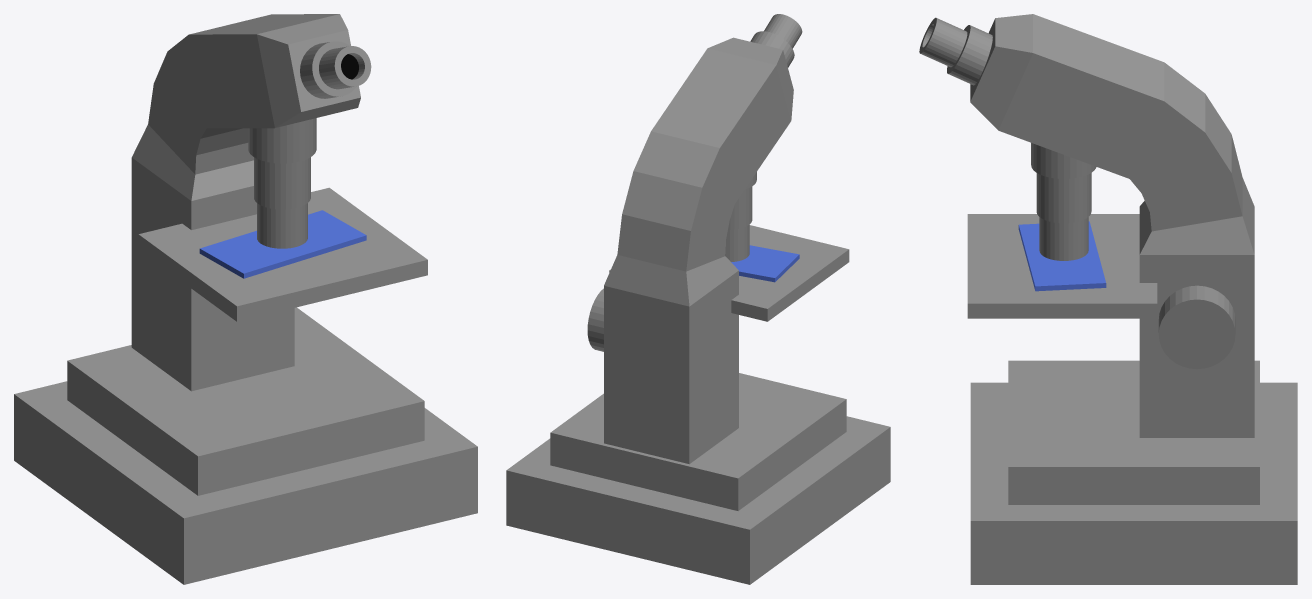
The model's file is Microscope.fbx.
3 views of the same model, side by side, from view 1: azimuth 30°, elevation 25°; view 2: azimuth 150°, elevation 25°; view 3: azimuth 270°, elevation 25° (orthographic). The views are drawn at different scales.
Visible parts, largest first — view 1: microscope; view 2: microscope; view 3: microscope.
Boxes of the visible parts, left/top/right/bottom form: microscope: left=14, top=14, right=477, bottom=584; microscope: left=506, top=14, right=890, bottom=584; microscope: left=919, top=14, right=1297, bottom=584.
Bounding box in the file's own units: 2 × 2.31 × 3.35.
